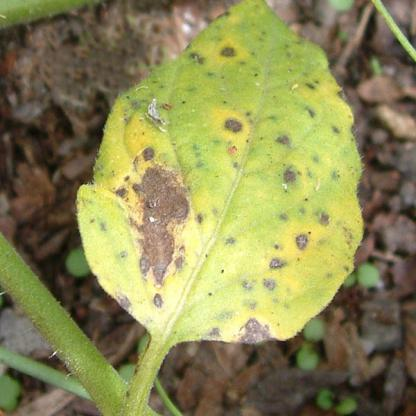Tomato Early blight leaf: (83, 9, 363, 363)
